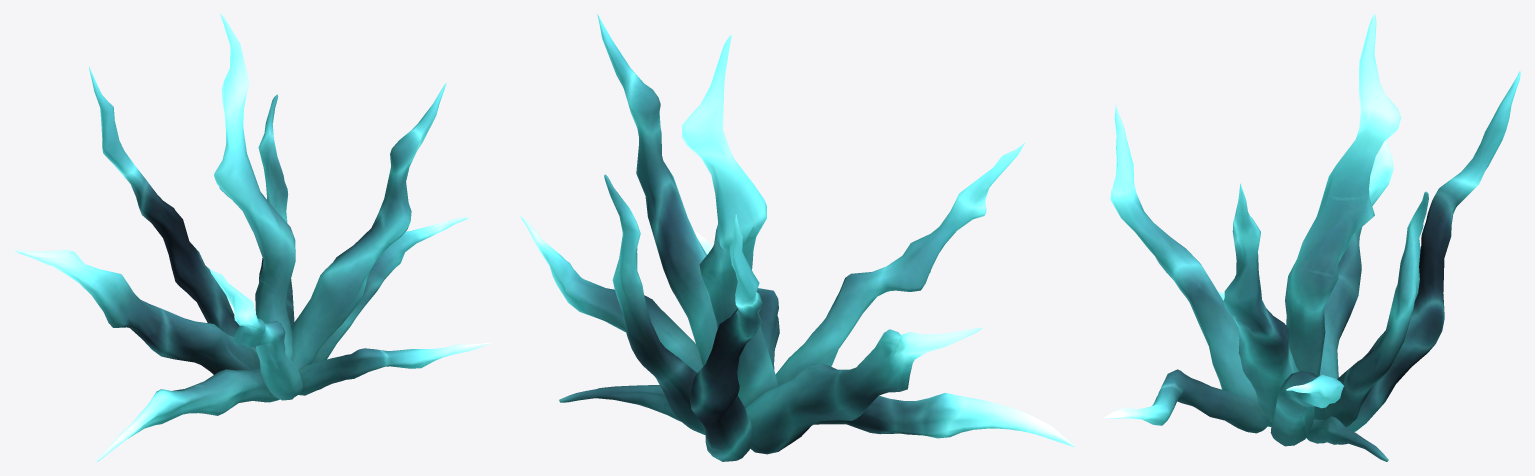
The model's file is caos_drs_chaosbush_01a_soma_v36.glb.
3 views of the same model, side by side, from view 1: azimuth 30°, elevation 25°; view 2: azimuth 150°, elevation 25°; view 3: azimuth 270°, elevation 25° (orthographic). The views are drawn at different scales.
Visible parts, largest first — view 1: caos_drs_chaosbush_01a; view 2: caos_drs_chaosbush_01a; view 3: caos_drs_chaosbush_01a.
Boxes of the visible parts, bbox=[...] form: caos_drs_chaosbush_01a: bbox=[14, 14, 491, 461]; caos_drs_chaosbush_01a: bbox=[520, 14, 1074, 461]; caos_drs_chaosbush_01a: bbox=[1103, 14, 1520, 461].
Size of the model in its own units: 1.48 by 1.23 by 1.13.
Materials: 1 (1 with a texture image).
